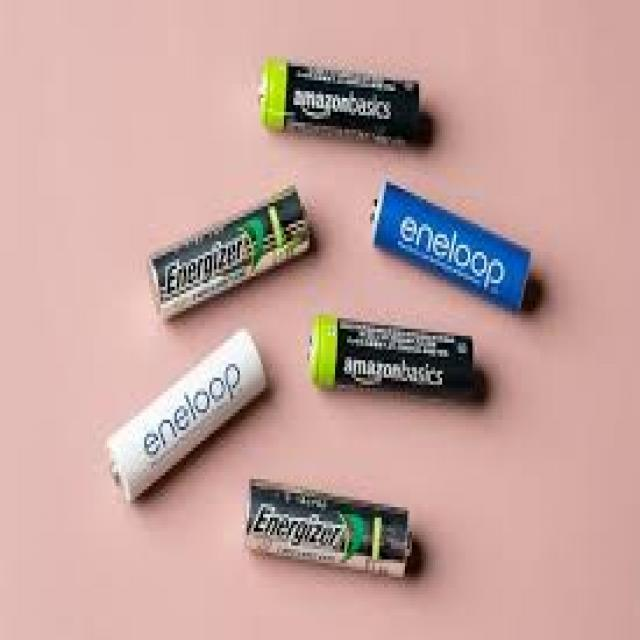battery: (107, 324, 269, 508), (370, 172, 536, 310), (151, 180, 312, 320), (243, 478, 419, 581), (305, 308, 475, 401), (258, 56, 422, 146)
